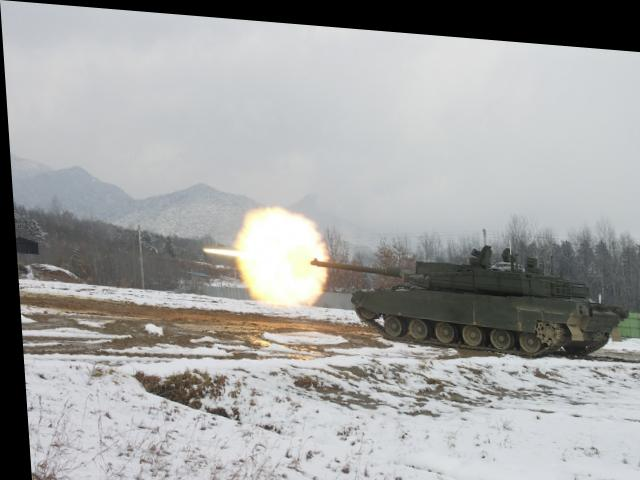tank: (342, 239, 586, 356)
